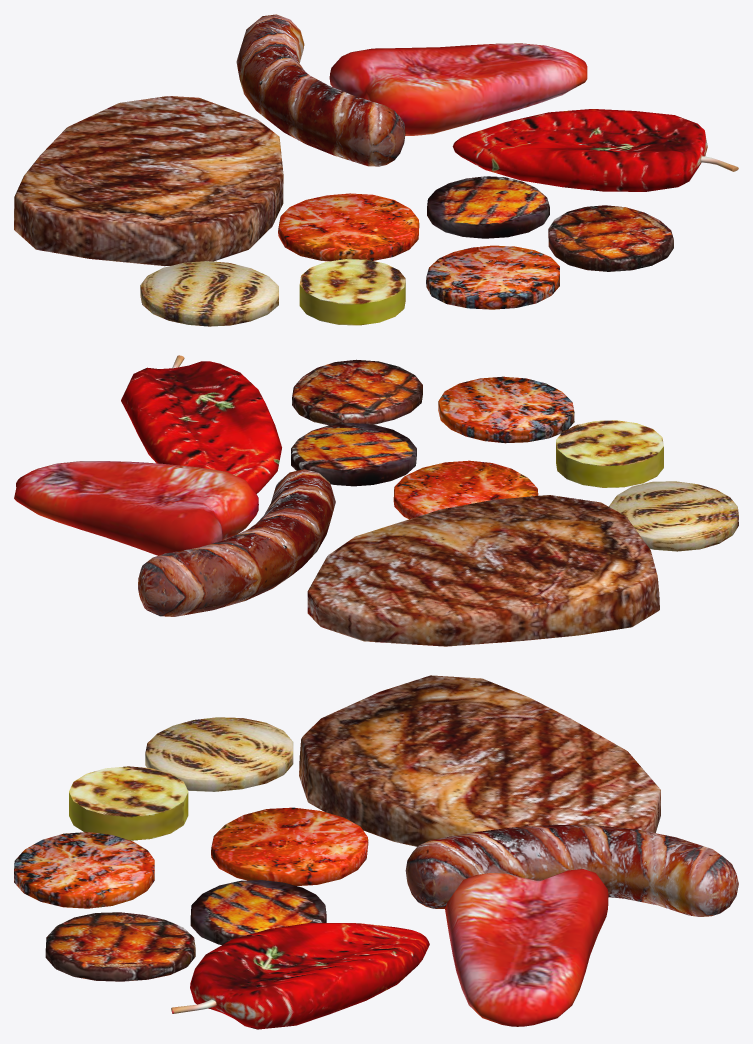
The model's file is GardenFoodGrilled01_4.FBX.
3 renders of one model, top to bottom at view 1: azimuth 30°, elevation 25°; view 2: azimuth 150°, elevation 25°; view 3: azimuth 270°, elevation 25°, orthographic. The views are drawn at different scales.
Visible parts, largest first — view 1: GardenFoodGrilled01_4; view 2: GardenFoodGrilled01_4; view 3: GardenFoodGrilled01_4.
Part boxes in pixels (x1,y1,x2,y2): GardenFoodGrilled01_4: (14, 14, 738, 326); GardenFoodGrilled01_4: (14, 355, 738, 646); GardenFoodGrilled01_4: (14, 675, 738, 1029).
Size of what is drawn, in the model's own units: 0.2842 by 0.0262 by 0.2687.
